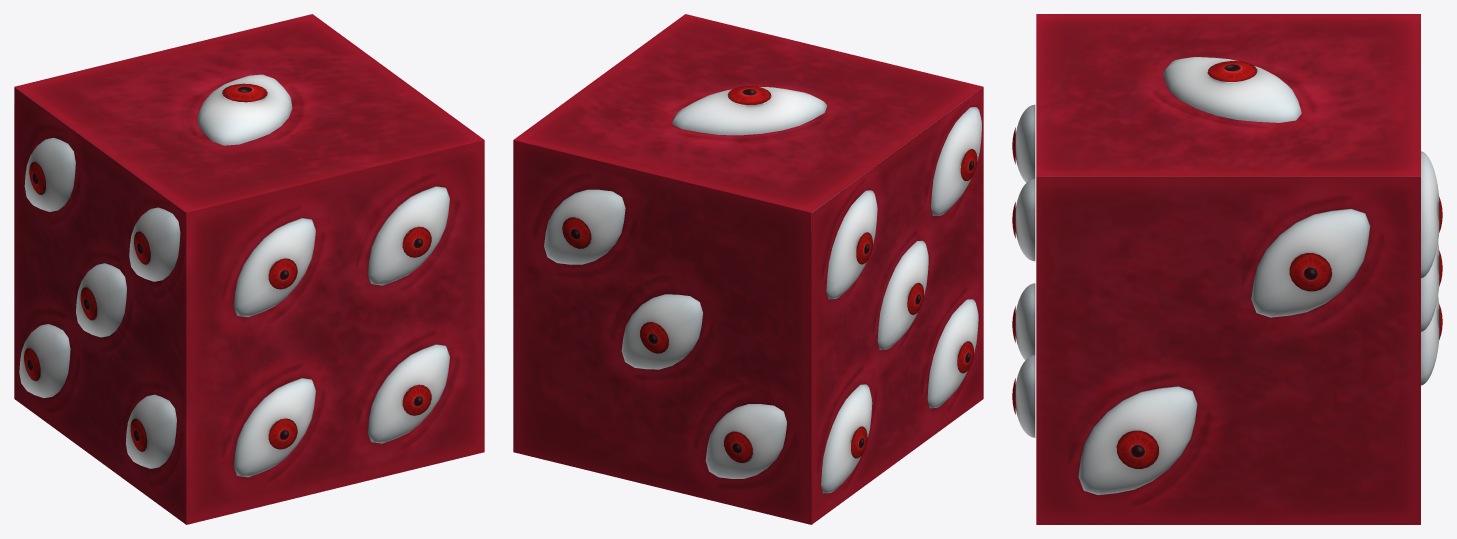
Rendered from Story01_하이츠.fbx.
3 renders of one model, left to right at view 1: azimuth 30°, elevation 25°; view 2: azimuth 150°, elevation 25°; view 3: azimuth 270°, elevation 25°, orthographic. The views are drawn at different scales.
Parts seen in each view (by area): view 1: Story01_하이츠; view 2: Story01_하이츠; view 3: Story01_하이츠.
Boxes of the visible parts, <box> form: Story01_하이츠: <box>14,14,484,524</box>; Story01_하이츠: <box>513,14,983,524</box>; Story01_하이츠: <box>1012,14,1442,524</box>.
Bounding box in the file's own units: 4400 × 4406 × 4355.
Materials: 1 (1 with a texture image).
